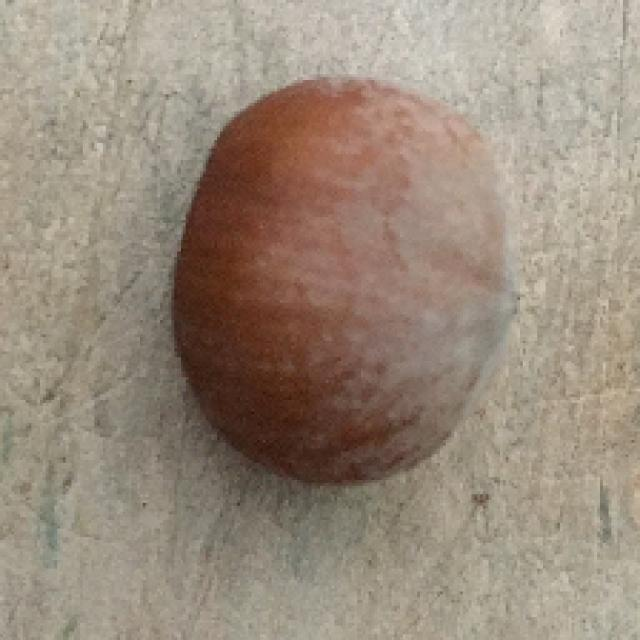qualityHazelnut: (176, 79, 519, 488)
